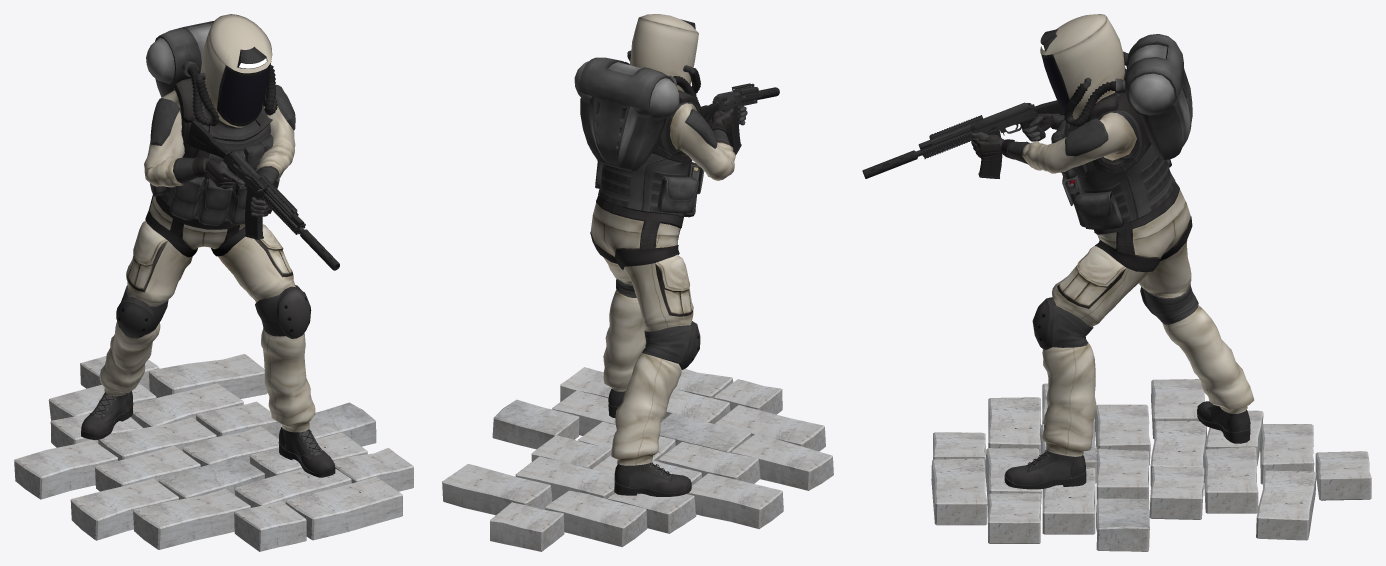
Rendered from soldier_model.glb.
The picture shows the model from 3 angles, left to right: view 1: azimuth 30°, elevation 25°; view 2: azimuth 150°, elevation 25°; view 3: azimuth 270°, elevation 25°; orthographic projection. The views are drawn at different scales.
Visible parts, largest first — view 1: Mesh_Body, pCube25, pCube6, pCube3, pCube12, pCube21, SAIGA_Gun_Body1, Mesh_Backpack, pCube11, pCube16, pCube4, pCube5 (+14 smaller); view 2: Mesh_Body, Mesh_Backpack, pCube21, pCube3, pCube20, pCube12, pCube15, pCube22, pCube6, pCube16, pCube5, pCube8 (+11 smaller); view 3: Mesh_Body, Mesh_Backpack, pCube21, pCube25, pCube16, SAIGA_Gun_Body1, pCube15, pCube2, pCube14, pCube6, pCube7, pCube22 (+9 smaller).
Boxes of the visible parts, x1,y1,x2,y2 form: Mesh_Body: (81,14,335,477); pCube25: (285,476,402,540); pCube6: (133,489,250,549); pCube3: (14,439,117,499); pCube12: (70,478,178,540); pCube21: (149,354,267,398); SAIGA_Gun_Body1: (186,120,339,270); Mesh_Backpack: (146,21,214,97); pCube11: (234,501,306,551); pCube16: (131,383,243,427); pCube4: (98,417,216,460); pCube5: (95,445,200,491); Mesh_Body: (590,14,747,496); Mesh_Backpack: (574,57,679,170); pCube21: (442,464,552,515); pCube3: (687,473,783,528); pCube20: (545,490,647,546); pCube12: (731,434,833,490); pCube15: (492,399,579,449); pCube22: (490,502,564,551); pCube6: (714,405,825,451); pCube16: (515,456,615,501); pCube5: (658,442,760,483); pCube8: (659,413,750,452); Mesh_Body: (970,14,1254,489); Mesh_Backpack: (1115,34,1192,159); pCube21: (1256,470,1316,540); pCube25: (931,458,987,525); pCube16: (1203,447,1258,513); SAIGA_Gun_Body1: (862,100,1063,178); pCube15: (1096,498,1149,551); pCube2: (1042,467,1095,534); pCube14: (1149,466,1204,519); pCube6: (988,397,1040,456); pCube7: (988,493,1040,543); pCube22: (1315,451,1371,500).
Bounding box in the file's own units: 112 × 160 × 159.
11 materials, 9 textured.
